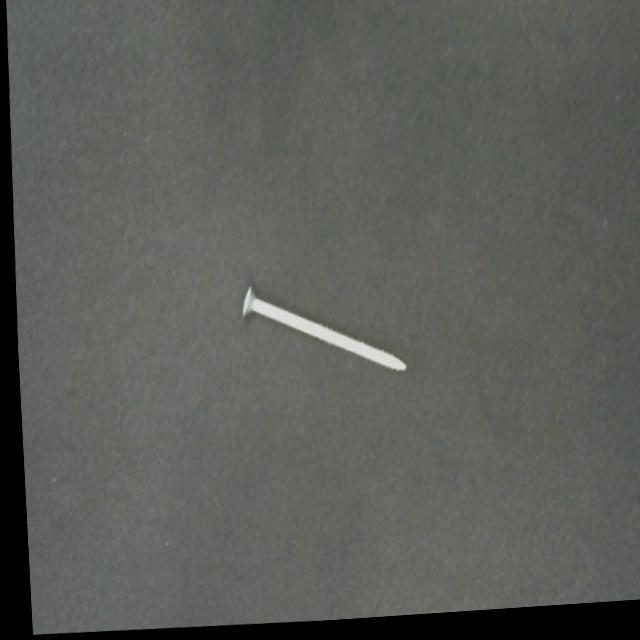WoodScrew: (234, 279, 404, 389)
